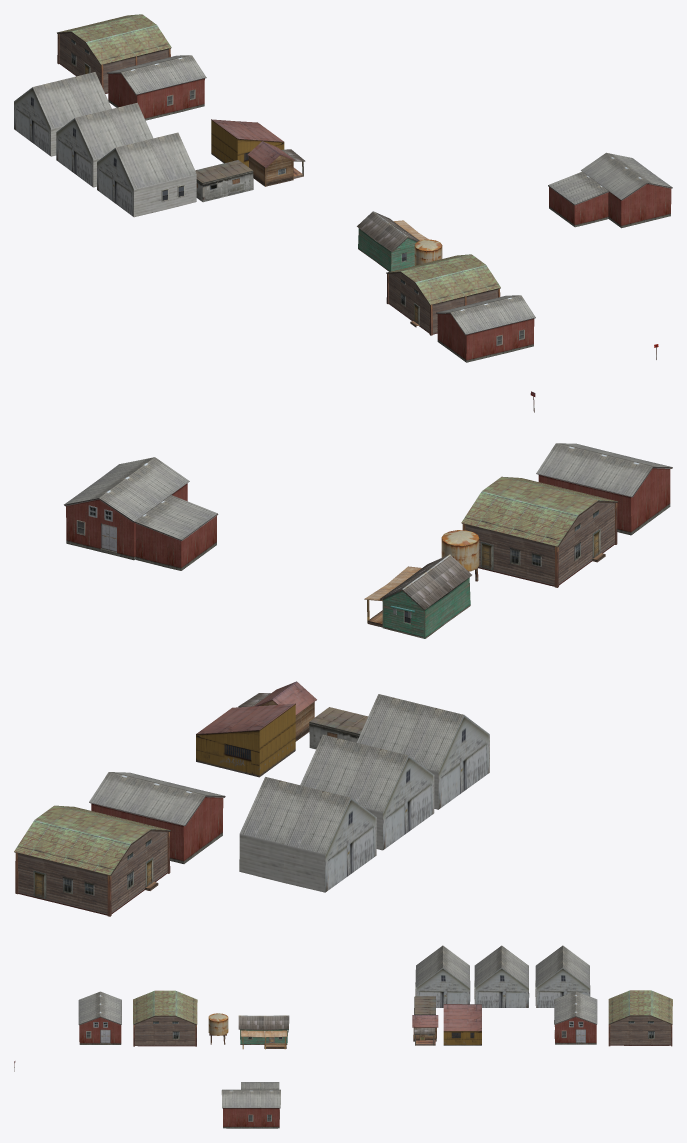
The model's file is lowpoly_buildings.fbx.
3 renders of one model, top to bottom at view 1: azimuth 30°, elevation 25°; view 2: azimuth 150°, elevation 25°; view 3: azimuth 270°, elevation 25°, orthographic. The views are drawn at different scales.
Visible parts, largest first — view 1: lowpoly_buildings1; view 2: lowpoly_buildings1; view 3: lowpoly_buildings1.
Boxes of the visible parts, x1=… form: lowpoly_buildings1: x1=14, y1=14, x2=672, y2=362; lowpoly_buildings1: x1=14, y1=391, x2=672, y2=916; lowpoly_buildings1: x1=14, y1=945, x2=672, y2=1128.
Bounding box in the file's own units: 5812 × 774 × 11307.
Materials: 1 (1 with a texture image).
